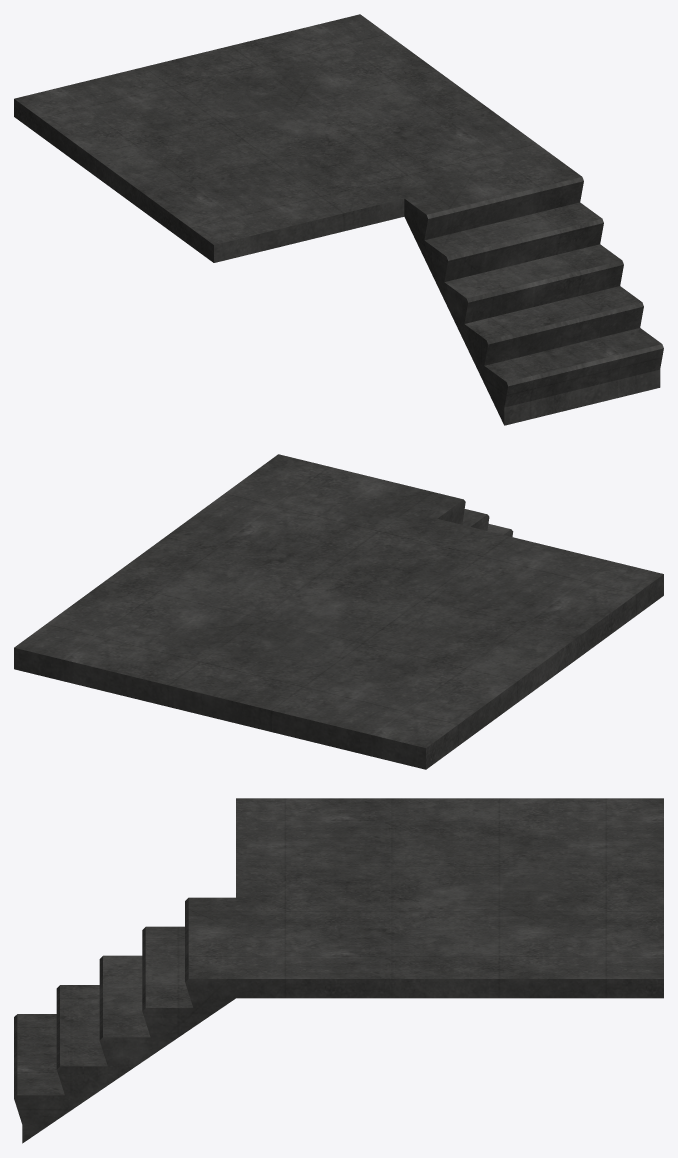
The model's file is stairs_2.obj.
3 renders of one model, top to bottom at view 1: azimuth 30°, elevation 25°; view 2: azimuth 150°, elevation 25°; view 3: azimuth 270°, elevation 25°, orthographic. The views are drawn at different scales.
Visible parts, largest first — view 1: stairs_2; view 2: stairs_2; view 3: stairs_2.
Boxes of the visible parts, x1,y1,x2,y2 form: stairs_2: (14, 14, 663, 425); stairs_2: (14, 454, 663, 769); stairs_2: (14, 798, 663, 1143).
Size of the model in its own units: 4 by 1.7 by 6.08.
